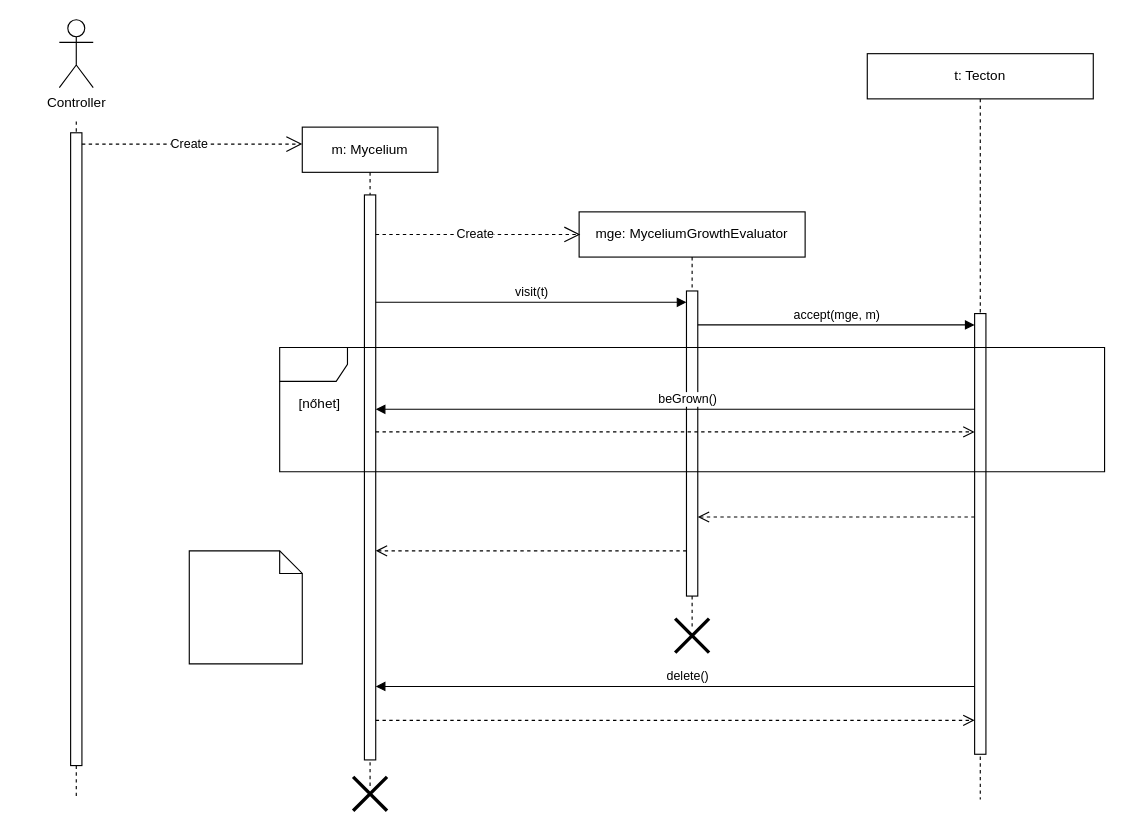
Image size: 1124x832. Some labels were removed from this diagram. Here are the shapes that lost their labels. From the top down, the centre of each, then its label:
At point 692,409: "opt".
At point 245,607: "Note".
